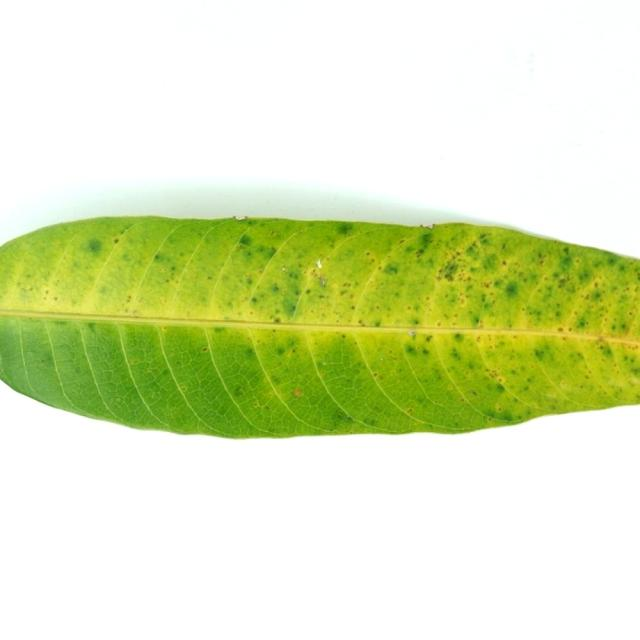Mango: (0, 218, 639, 438)
Powdery_Mildew: (506, 332, 628, 413), (26, 214, 169, 231), (537, 252, 583, 299), (17, 323, 42, 407), (144, 251, 186, 289), (601, 290, 635, 336), (375, 232, 422, 256), (426, 222, 502, 235), (330, 277, 361, 307), (122, 420, 193, 433), (481, 407, 514, 422), (614, 249, 638, 269), (271, 340, 295, 358), (15, 284, 36, 303), (235, 232, 256, 249), (313, 260, 325, 286), (405, 343, 427, 357), (441, 263, 459, 280), (502, 281, 519, 298), (334, 412, 355, 425), (574, 315, 591, 331), (86, 237, 102, 253), (122, 306, 145, 317), (336, 223, 354, 236), (103, 379, 120, 392), (149, 253, 169, 264), (533, 347, 548, 361), (470, 312, 485, 326), (384, 264, 400, 276), (287, 300, 299, 315), (322, 360, 346, 367), (238, 218, 260, 225), (596, 335, 610, 345), (363, 418, 377, 426), (267, 247, 278, 257), (85, 322, 97, 331), (488, 369, 500, 377), (409, 318, 420, 326), (271, 283, 280, 292), (372, 319, 382, 327), (235, 389, 245, 397), (253, 401, 263, 408), (222, 315, 232, 321), (293, 390, 301, 397), (130, 359, 139, 365), (407, 330, 416, 336), (358, 319, 365, 326), (425, 335, 433, 341), (483, 282, 491, 288), (326, 426, 334, 432), (316, 260, 322, 268), (250, 296, 257, 302), (74, 367, 81, 373), (126, 295, 132, 302), (319, 372, 326, 378), (269, 230, 276, 236), (486, 416, 493, 422), (273, 318, 281, 323), (40, 358, 48, 363), (369, 258, 375, 264), (43, 294, 49, 300), (496, 406, 502, 412), (201, 347, 208, 352), (113, 238, 119, 243), (557, 327, 563, 332), (436, 321, 442, 326), (476, 336, 481, 342), (374, 373, 380, 378), (147, 367, 152, 373), (471, 391, 477, 396), (447, 385, 453, 390), (406, 408, 412, 413), (231, 215, 238, 219), (207, 275, 212, 280), (366, 251, 371, 256), (502, 260, 507, 265), (243, 296, 248, 301), (258, 269, 263, 274), (181, 386, 186, 391), (430, 223, 435, 228), (460, 398, 466, 402), (341, 334, 346, 338), (45, 289, 49, 294), (335, 319, 340, 323), (249, 311, 254, 315), (567, 327, 572, 331), (162, 326, 167, 330), (512, 335, 517, 339), (139, 297, 143, 302), (282, 267, 286, 272), (54, 297, 58, 301), (272, 329, 276, 333), (426, 297, 430, 301), (246, 336, 250, 340), (324, 257, 328, 261), (407, 306, 411, 309), (388, 350, 392, 353), (29, 317, 33, 320), (322, 362, 326, 365), (380, 357, 383, 360)
